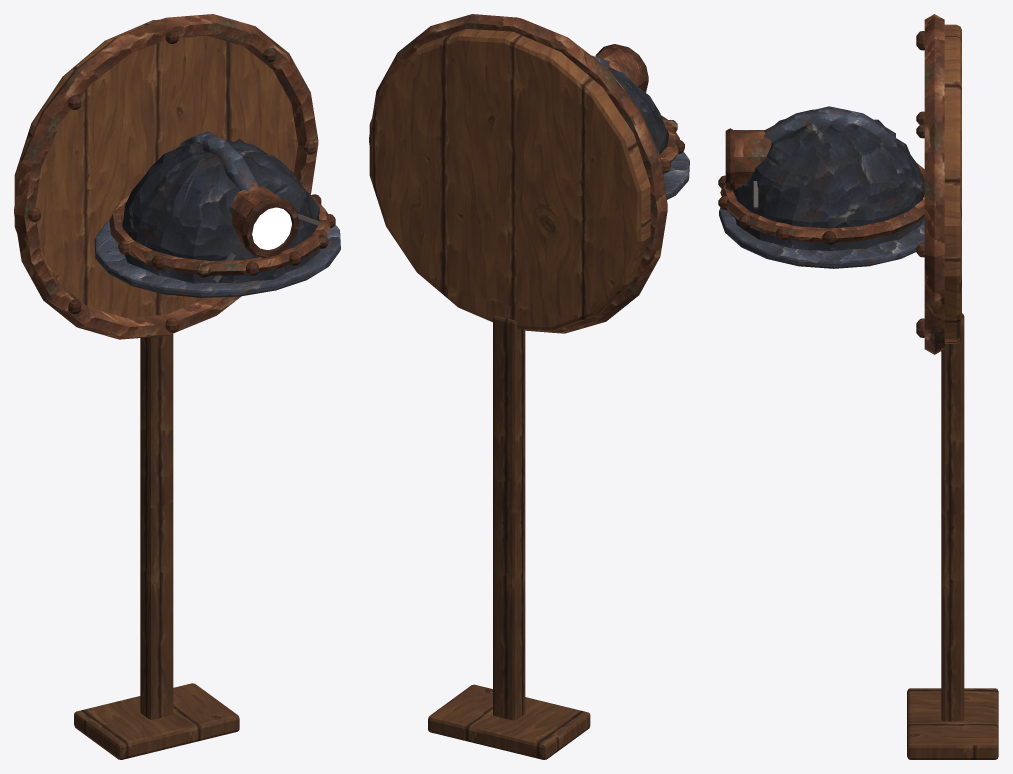
File: foreman_helmet_trophy.glb
3 renders of one model, left to right at view 1: azimuth 30°, elevation 25°; view 2: azimuth 150°, elevation 25°; view 3: azimuth 270°, elevation 25°, orthographic. The views are drawn at different scales.
Parts seen in each view (by area): view 1: model; view 2: model; view 3: model.
Boxes of the visible parts, <box> form: model: <box>14,14,340,759</box>; model: <box>369,14,689,759</box>; model: <box>718,14,998,759</box>.
Size of the model in its own units: 0.75 by 1.7 by 0.6124.
8 materials, 6 textured.
